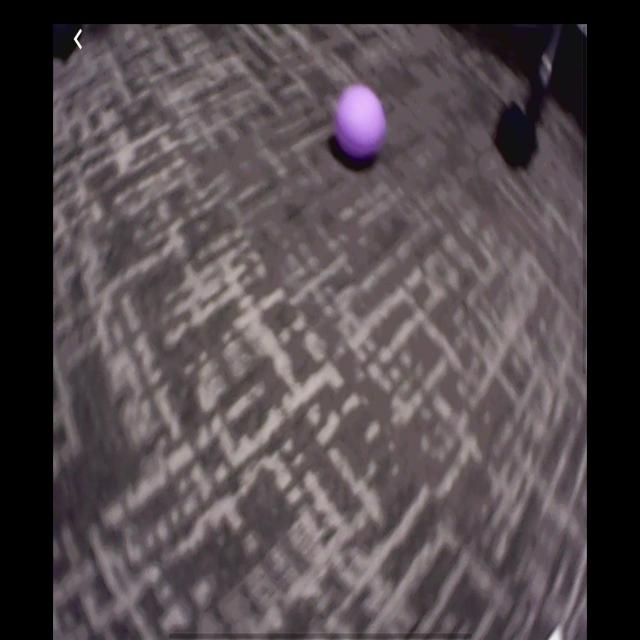ball: (333, 87, 386, 164)
